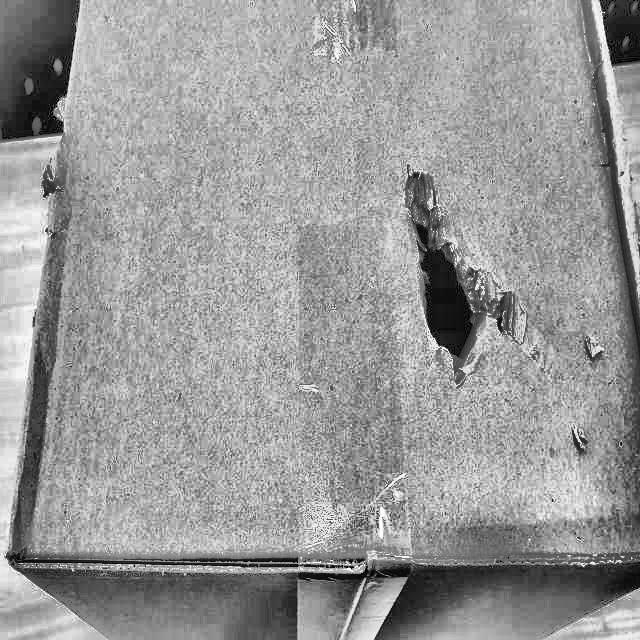box: (0, 0, 639, 639)
hole: (395, 168, 529, 392)
